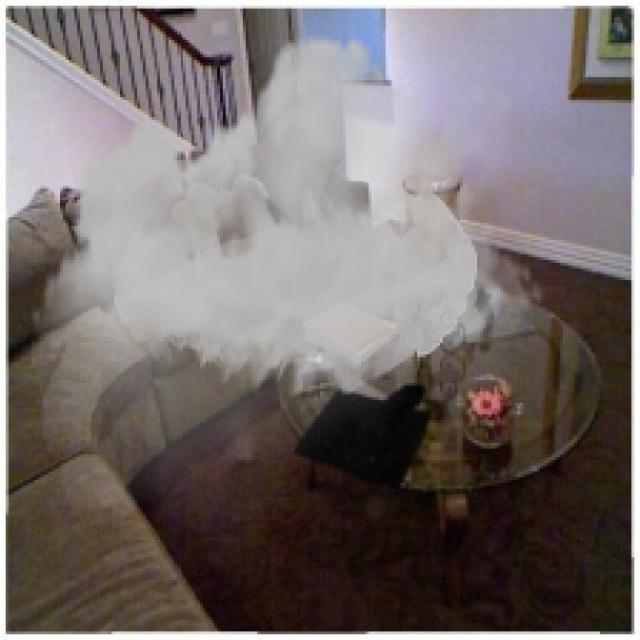Smoke: (31, 14, 546, 546)
